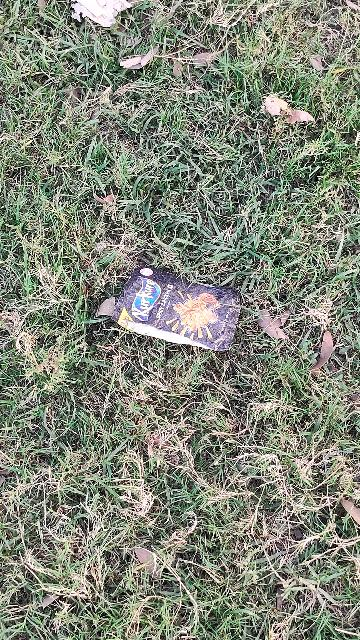packet: (107, 254, 247, 356)
